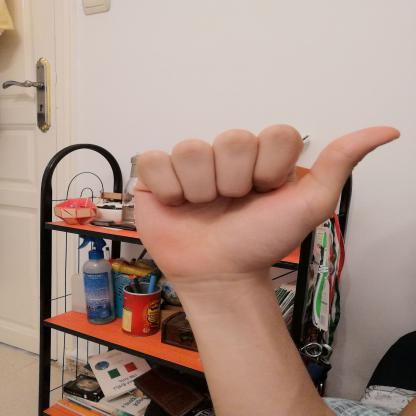DAD: (112, 116, 410, 288)
